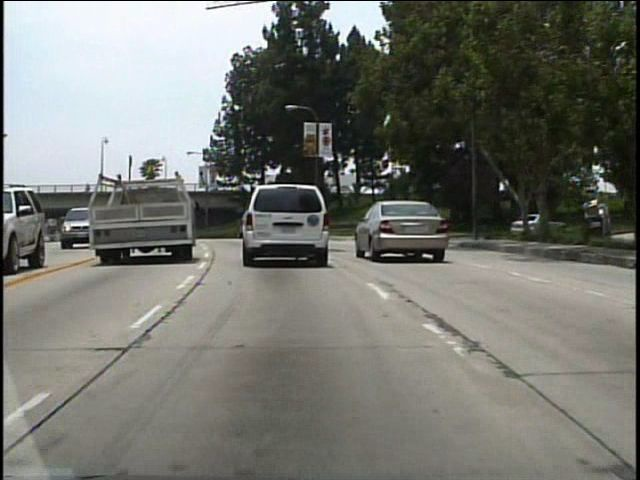person: (81, 178, 92, 198)
